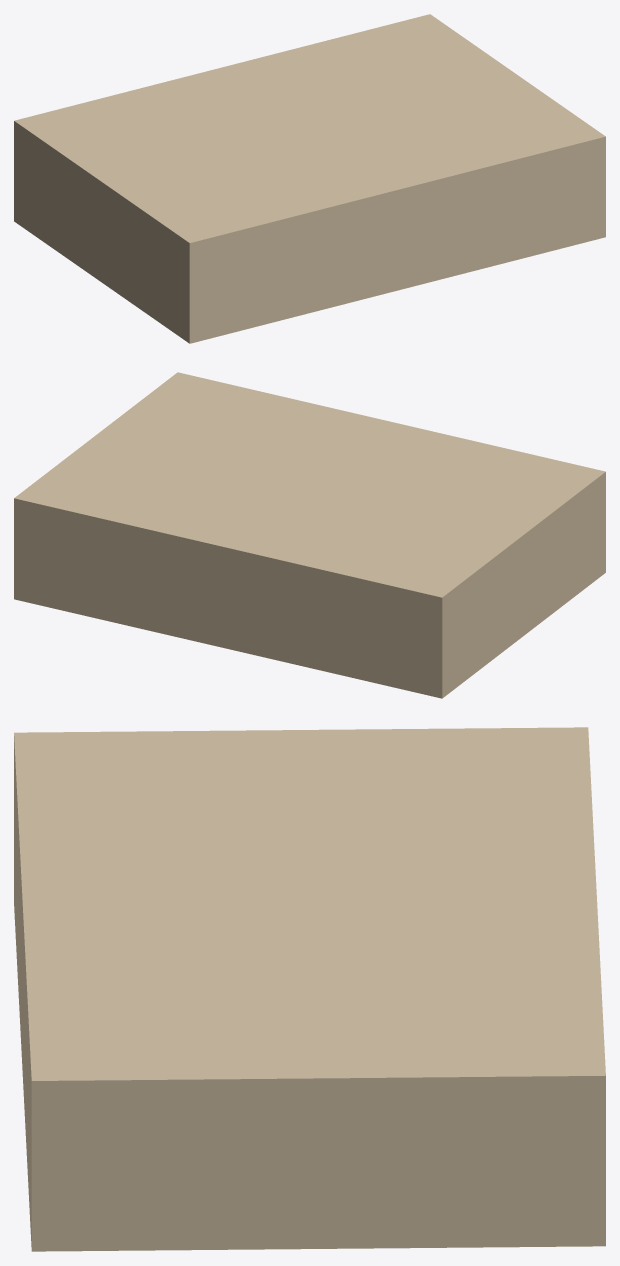
The model's file is -18_-4-estimated-coarse.glb.
3 views of the same model, one above another, from view 1: azimuth 30°, elevation 25°; view 2: azimuth 150°, elevation 25°; view 3: azimuth 270°, elevation 25° (orthographic). The views are drawn at different scales.
Size of the model in its own units: 53.37 by 12 by 37.75.
